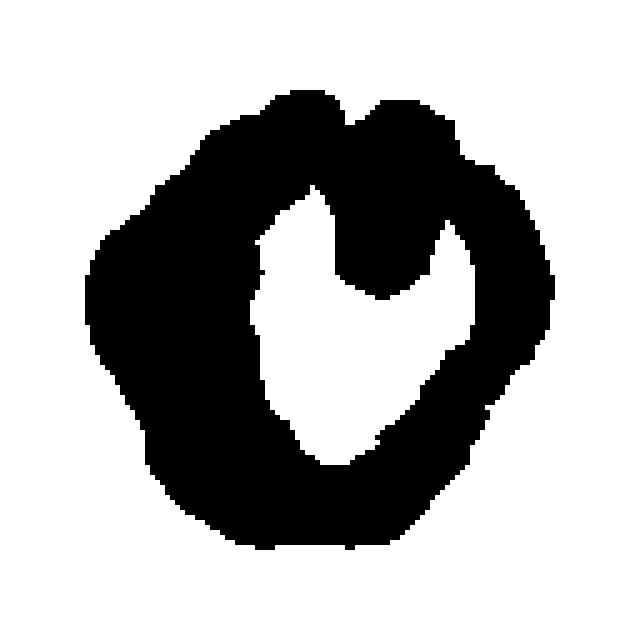O: (85, 90, 555, 555)
